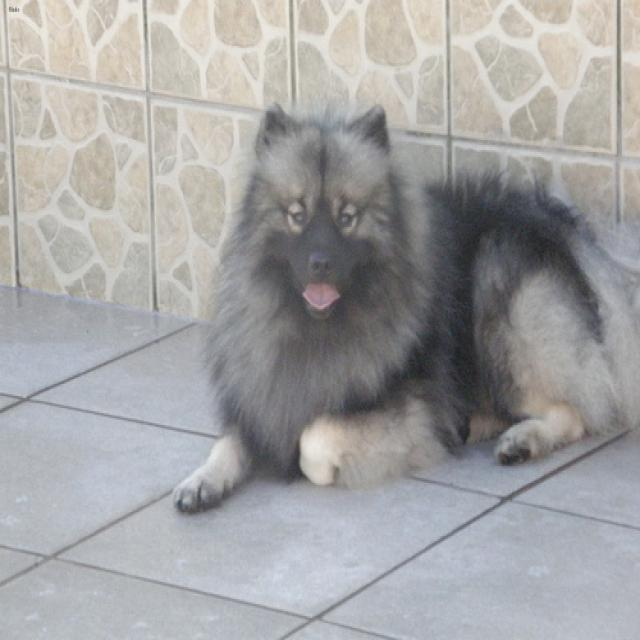dog-keeshond: (163, 87, 637, 519)
